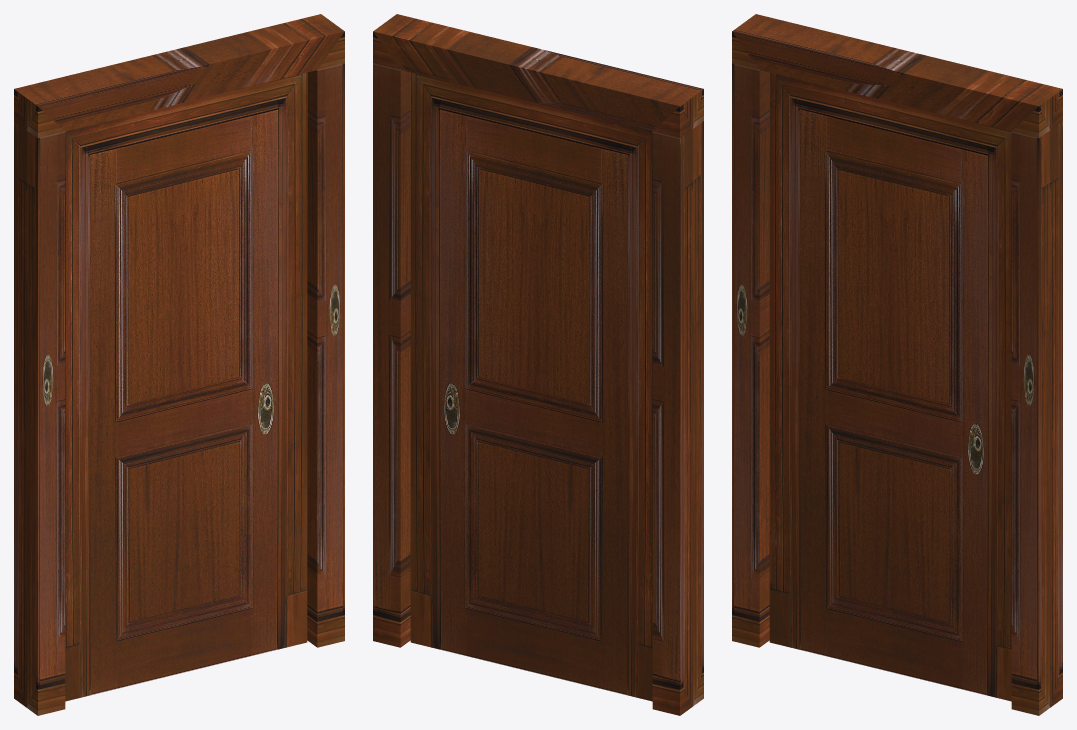
Rendered from door_plain.fbx.
3 views of the same model, side by side, from view 1: azimuth 30°, elevation 25°; view 2: azimuth 150°, elevation 25°; view 3: azimuth 330°, elevation 25° (orthographic).
Parts seen in each view (by area): view 1: Door, Door_Frame; view 2: Door, Door_Frame; view 3: Door, Door_Frame.
Part boxes in pixels (bbox=[...]): Door: bbox=[65, 72, 307, 701]; Door_Frame: bbox=[14, 14, 344, 715]; Door: bbox=[410, 72, 652, 701]; Door_Frame: bbox=[373, 14, 703, 715]; Door: bbox=[769, 72, 1011, 701]; Door_Frame: bbox=[732, 14, 1062, 715].
Size of the model in its own units: 113 by 215 by 15.24.
2 materials, 2 textured.
